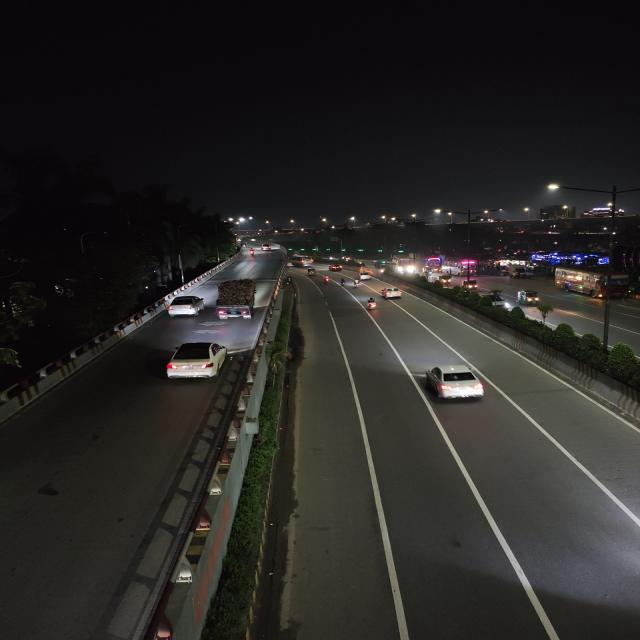bus: (554, 266, 638, 300), (444, 260, 476, 276), (394, 255, 415, 272), (293, 255, 313, 268)
car: (418, 363, 488, 407), (162, 340, 232, 383), (166, 294, 206, 318), (380, 285, 404, 301), (328, 264, 344, 274), (358, 270, 372, 280), (261, 244, 274, 252)
cng: (516, 289, 543, 306), (306, 268, 318, 276)
motorcycle: (363, 296, 381, 312), (322, 274, 331, 286), (352, 278, 360, 288), (340, 277, 347, 288), (249, 248, 256, 257)
pickup_van: (213, 277, 260, 321)
truck: (511, 265, 526, 279)
